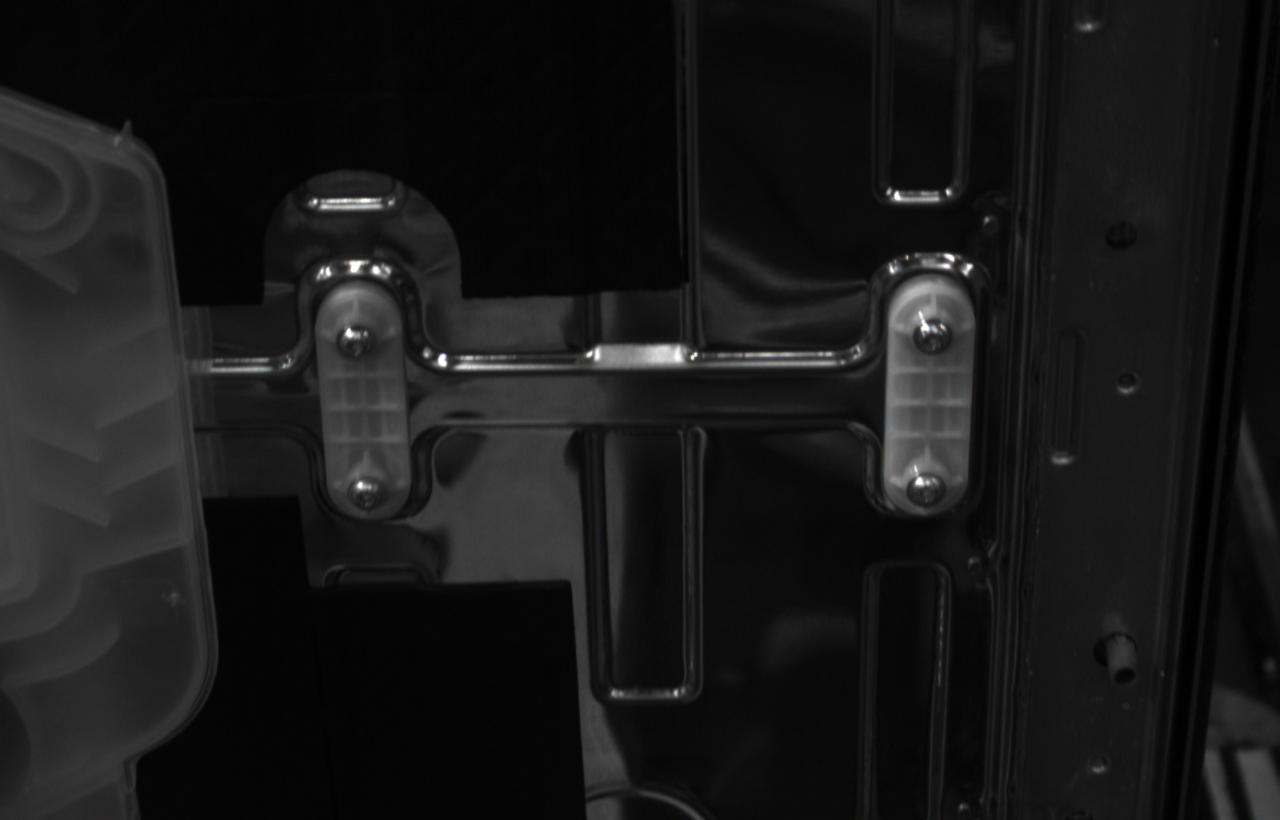vida-ok: (336, 324, 375, 361), (913, 319, 953, 355), (906, 472, 946, 507), (348, 477, 383, 511)
